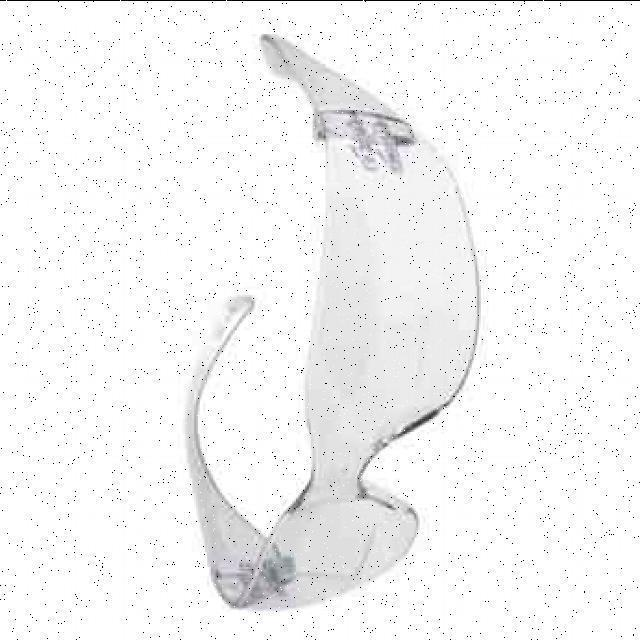Goggles: (181, 11, 485, 614)
